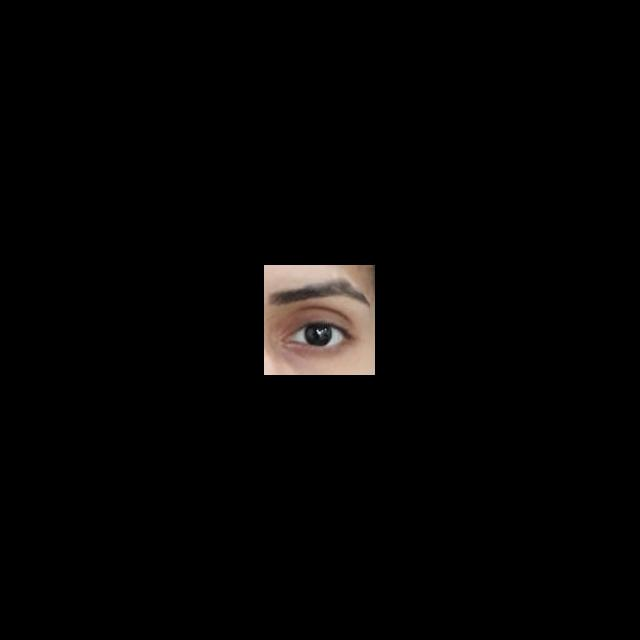eye: (292, 323, 345, 347)
iris: (305, 324, 333, 345)
